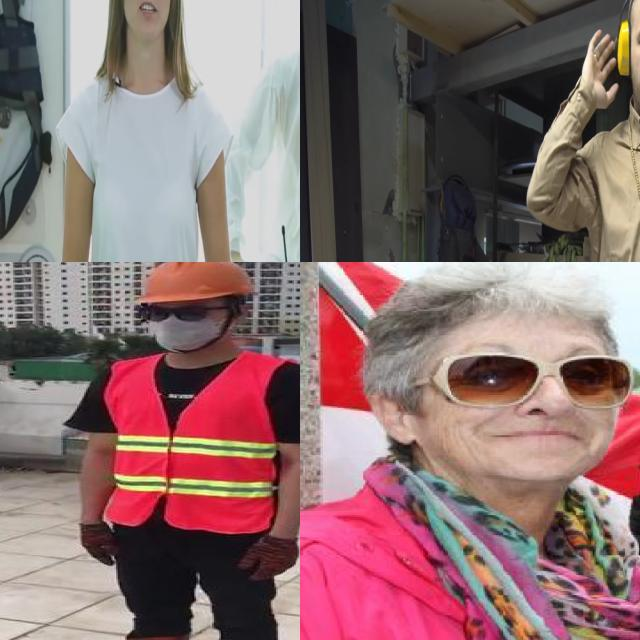Ear-protection: (615, 0, 640, 129)
face_mask: (138, 303, 224, 350)
face_nomask: (441, 343, 621, 457)
glasses: (395, 325, 632, 408), (132, 300, 219, 326)
hand_glove: (235, 536, 299, 580), (77, 521, 118, 568)
head_helmet: (128, 262, 258, 305)
head_nohelmet: (390, 265, 620, 340)
person: (300, 262, 640, 640), (70, 262, 300, 640), (56, 0, 240, 262)
vest: (106, 353, 280, 534)
